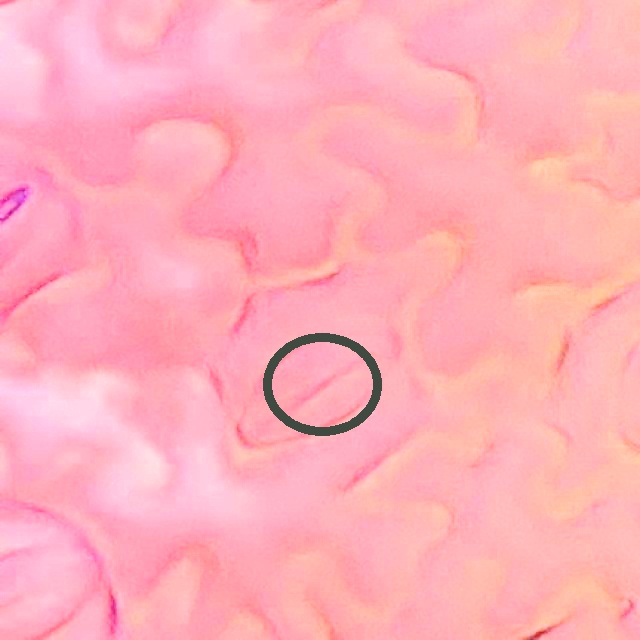close: (262, 332, 382, 437)
